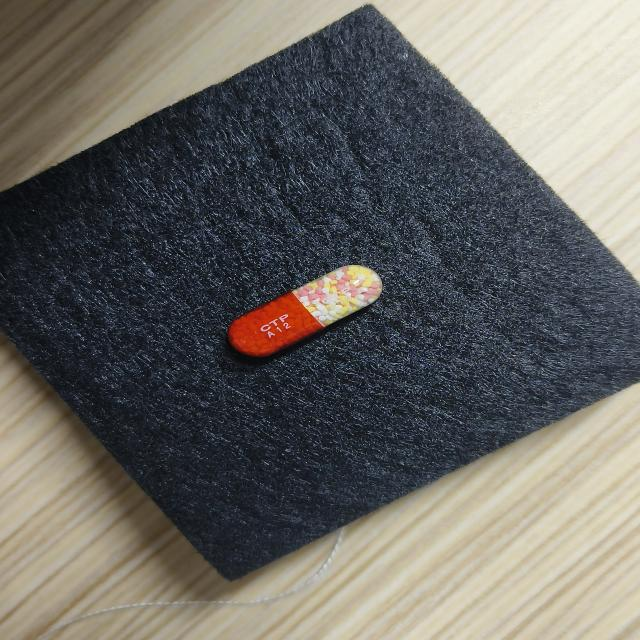Intact Capsule: (228, 265, 382, 357)
